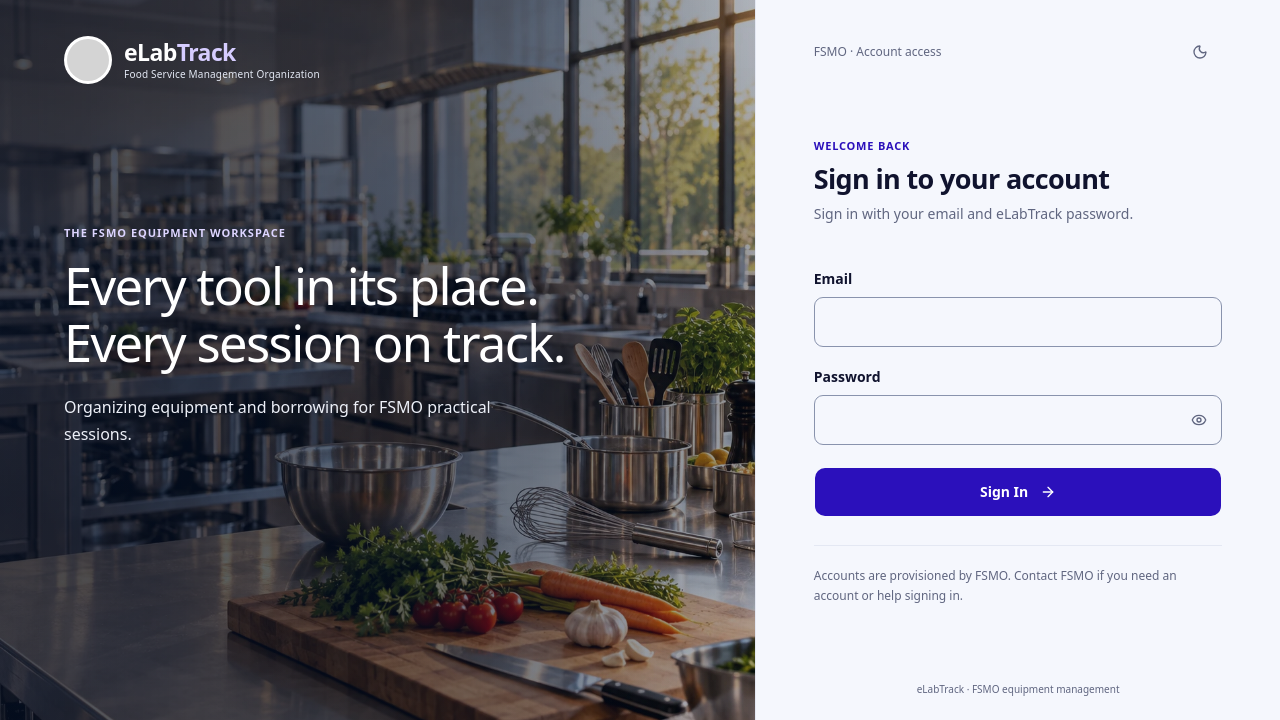
Phase 4A product authentication › navigates BORROWER using safe server account metadata
Step 1. Type "synthetic@example.invalid" into the field labelled "Email" → (1018, 322), box [814,296,1222,346]
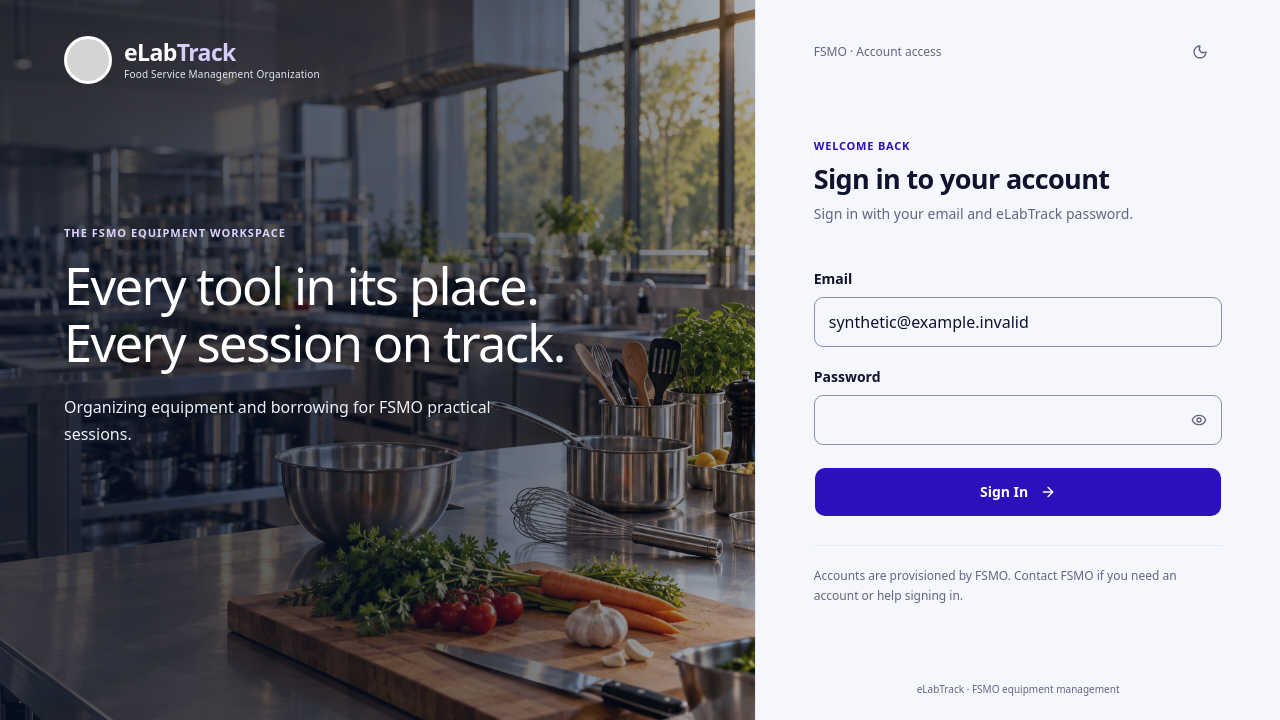
Step 2. Type "unit-only-input" into the password field labelled "Password" → (1018, 420), box [814,394,1222,444]
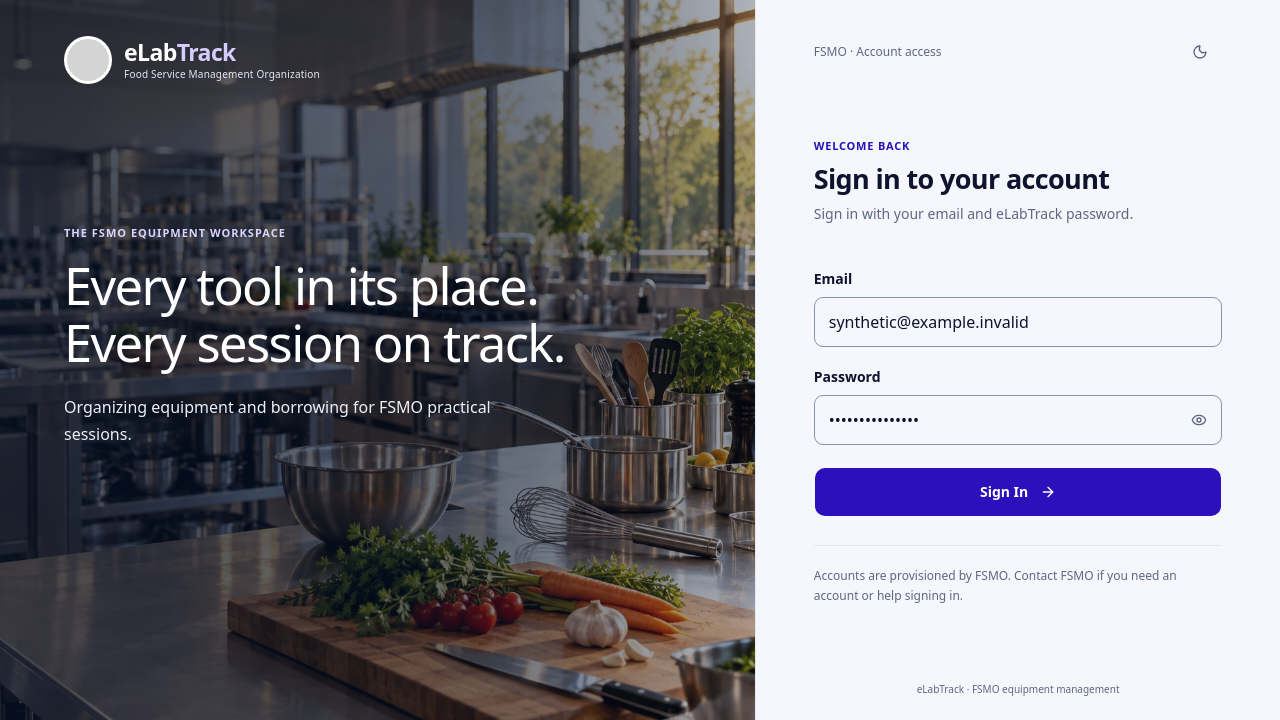
Step 3. Click the button "Sign In" → (1018, 492), box [814,466,1222,516]
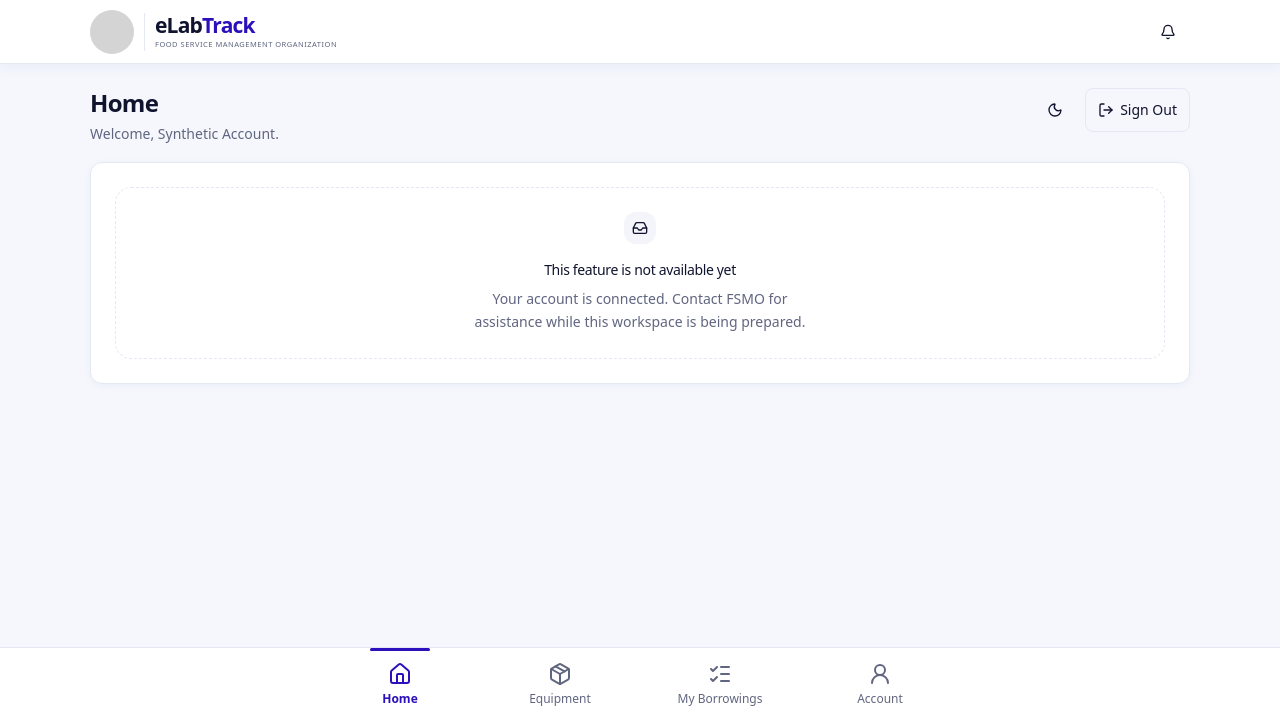
Expected: the text "This feature is not available yet" is shown, [544,260,736,280]
